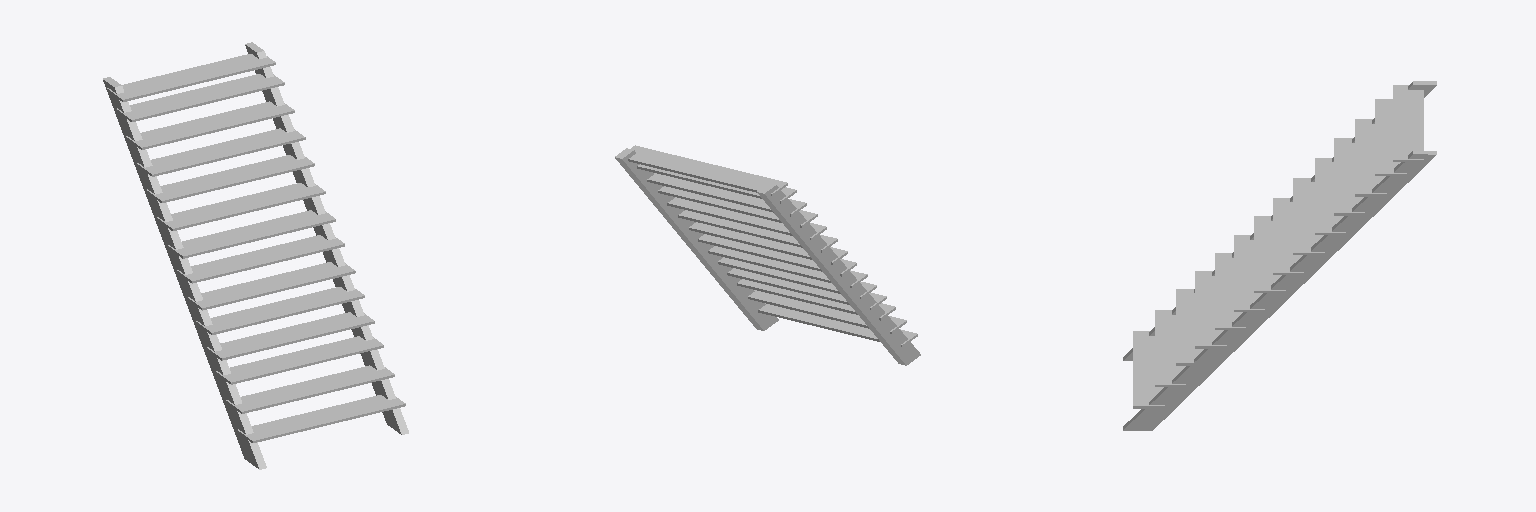
File: CargoBay_Stairs.obj
3 renders of one model, left to right at view 1: azimuth 30°, elevation 25°; view 2: azimuth 150°, elevation 25°; view 3: azimuth 270°, elevation 25°, orthographic.
Parts seen in each view (by area): view 1: default; view 2: default; view 3: default.
Boxes of the visible parts, x1=… form: default: x1=103, y1=42, x2=408, y2=469; default: x1=615, y1=145, x2=920, y2=365; default: x1=1123, y1=81, x2=1436, y2=430.
Bounding box in the file's own units: 18.87 × 32.53 × 33.55.